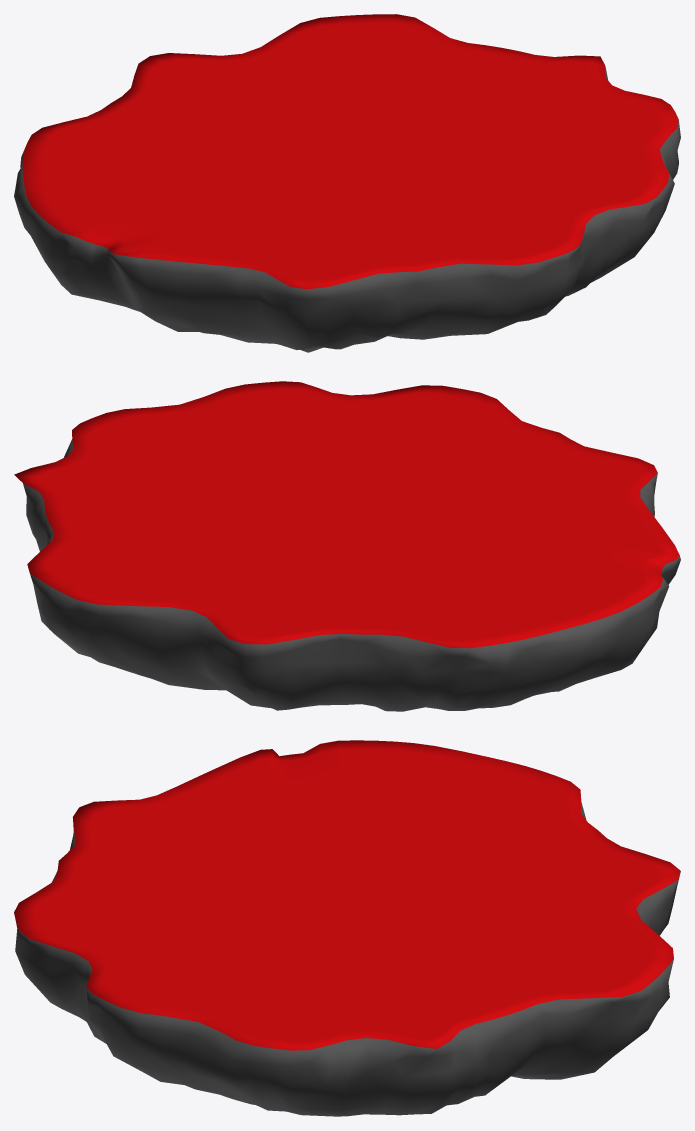
File: MikaRockPlatform.fbx
3 views of the same model, one above another, from view 1: azimuth 30°, elevation 25°; view 2: azimuth 150°, elevation 25°; view 3: azimuth 270°, elevation 25° (orthographic). The views are drawn at different scales.
Parts seen in each view (by area): view 1: Torus; view 2: Torus; view 3: Torus.
Boxes of the visible parts, box(x1,y1,x2,y2) form: Torus: box(14, 14, 680, 352); Torus: box(14, 381, 680, 711); Torus: box(14, 740, 680, 1116).
Size of the model in its own units: 186 by 41.5 by 168.
